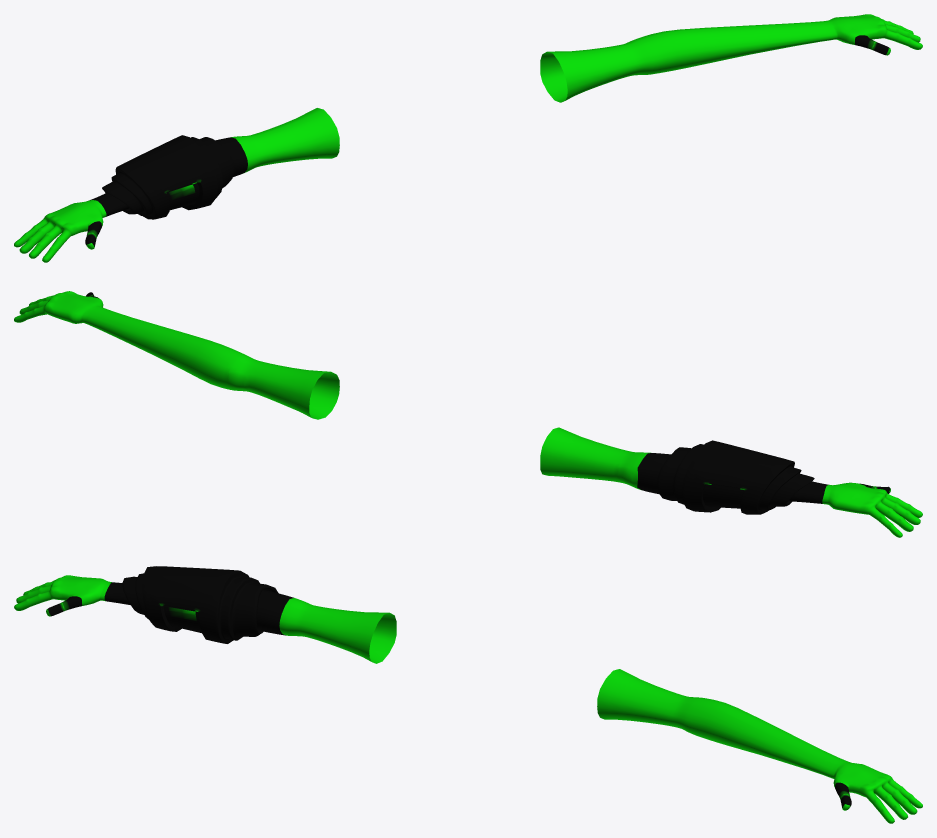
File: Arms.fbx
3 renders of one model, top to bottom at view 1: azimuth 30°, elevation 25°; view 2: azimuth 150°, elevation 25°; view 3: azimuth 330°, elevation 25°, orthographic.
Visible parts, largest first — view 1: pasted__polySurface1, pasted__polySurface2; view 2: pasted__polySurface1, pasted__polySurface2; view 3: pasted__polySurface1, pasted__polySurface2.
Boxes of the visible parts, x1,y1,x2,y2 form: pasted__polySurface1: [14, 108, 339, 262]; pasted__polySurface2: [540, 14, 922, 102]; pasted__polySurface1: [540, 427, 922, 537]; pasted__polySurface2: [14, 291, 339, 419]; pasted__polySurface1: [14, 566, 396, 663]; pasted__polySurface2: [597, 669, 922, 823].
Size of the model in its own units: 172 by 12.26 by 22.09.
